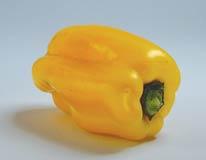capsicum: (33, 24, 181, 140)
